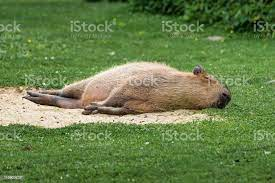capivara: (22, 62, 232, 122)
